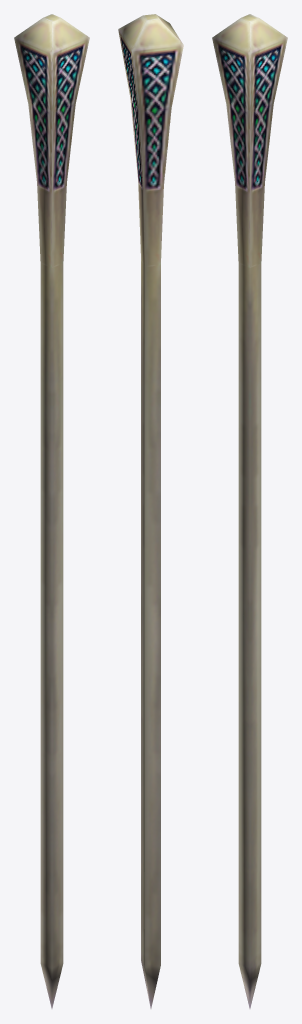
Rendered from Staff13.FBX.
3 views of the same model, side by side, from view 1: azimuth 90°, elevation 25°; view 2: azimuth 150°, elevation 25°; view 3: azimuth 270°, elevation 25° (orthographic).
Parts seen in each view (by area): view 1: Staff13; view 2: Staff13; view 3: Staff13.
Boxes of the visible parts, bbox=[...] form: Staff13: bbox=[14, 14, 89, 1008]; Staff13: bbox=[118, 14, 183, 1008]; Staff13: bbox=[212, 14, 287, 1008].
Size of the model in its own units: 13.74 by 198 by 13.74.
